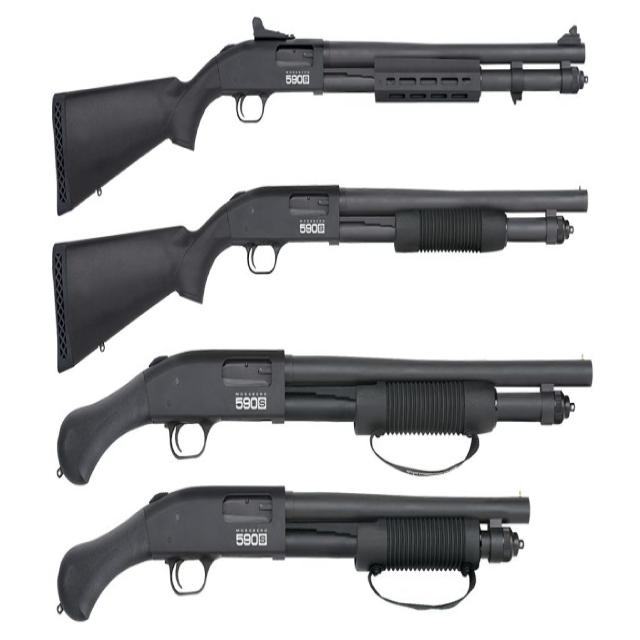ShotGun: (52, 16, 589, 215), (51, 185, 592, 375), (58, 349, 594, 486), (58, 486, 531, 622)
